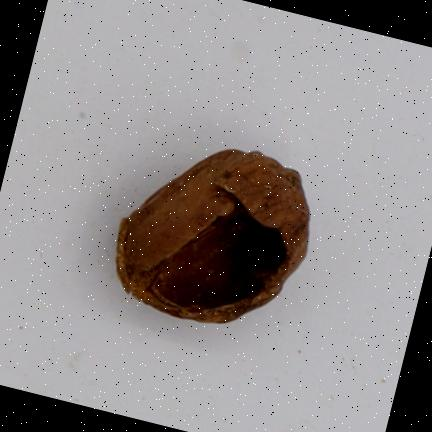husk: (117, 149, 309, 322)
